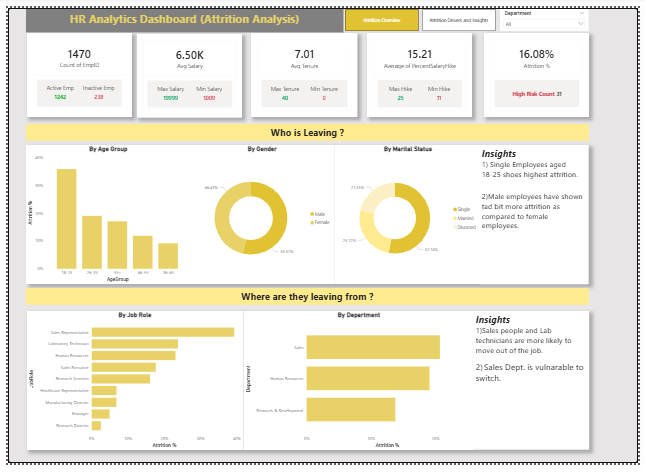

What the dashboard file says about the page in this screenshot:
{"tool":"powerbi","page":{"name":"Attrition Overview","canvas":[1800,1300],"ordinal":0},"visuals":[{"type":"shape","box":[53.3,866.7,1606.7,396.7],"z":0},{"type":"shape","box":[53.3,390,1606.7,396.7],"z":1000},{"type":"cardVisual","fields":{"Data":["Count(HR_Analytics.EmpID)"]},"box":[53.3,70,300,240],"z":2000},{"type":"cardVisual","fields":{"Data":["Avg(HR_Analytics.MonthlyIncome)"]},"box":[368.9,73.3,300,238.9],"z":3000},{"type":"cardVisual","fields":{"Data":["Avg(HR_Analytics.PercentSalaryHike)"]},"box":[1026,72,300,240],"z":4000},{"type":"cardVisual","fields":{"Data":["Avg(HR_Analytics.YearsAtCompany)"]},"box":[694,72,304,240],"z":5000},{"type":"cardVisual","fields":{"Data":["_Measure.Attrition %"]},"box":[1360,72,300,240],"z":6000},{"type":"textbox","box":[52,332,1608,48],"z":7000},{"type":"columnChart","title":"By Age Group","fields":{"Category":["HR_Analytics.AgeGroup"],"Y":["_Measure.Attrition %"]},"box":[50,390,470,396.7],"z":8000},{"type":"donutChart","title":"By Gender","fields":{"Category":["HR_Analytics.Gender"],"Y":["_Measure.Attrition %"]},"box":[520,390,413.3,396.7],"z":9000},{"type":"donutChart","title":"By Marital Status","fields":{"Y":["_Measure.Attrition %"],"Category":["HR_Analytics.MaritalStatus"]},"box":[933.3,390,416.7,396.7],"z":10000},{"type":"textbox","box":[52,800,1608,48],"z":11000},{"type":"barChart","title":"By Job Role","fields":{"Category":["HR_Analytics.JobRole"],"Y":["_Measure.Attrition %"]},"box":[53.3,866.7,616.7,396.7],"z":12000},{"type":"barChart","title":"By Department","fields":{"Y":["_Measure.Attrition %"],"Category":["HR_Analytics.Department"]},"box":[673.3,866.7,656.7,396.7],"z":13000},{"type":"textbox","box":[50,3.3,906.7,66.7],"z":14000},{"type":"textbox","box":[1350,390,307.5,397.5],"z":15000},{"type":"textbox","box":[1331.4,865.7,328.6,394.3],"z":16000},{"type":"pageNavigator","box":[963.3,3.3,430,63.3],"z":16001},{"type":"slicer","fields":{"Values":["HR_Analytics.Department"]},"box":[1406.7,3.3,253.3,63.3],"z":16002}]}

Visuals, with their boxes in screenshot pixels (x1, y1, x2, y2), scaled from the page's 1800x1300 canvas onto the 645x472 screenshot:
shape: {"left": 19, "top": 315, "right": 595, "bottom": 459}
shape: {"left": 19, "top": 142, "right": 595, "bottom": 286}
cardVisual - Count(HR_Analytics.EmpID): {"left": 19, "top": 25, "right": 127, "bottom": 113}
cardVisual - Avg(HR_Analytics.MonthlyIncome): {"left": 132, "top": 27, "right": 240, "bottom": 113}
cardVisual - Avg(HR_Analytics.PercentSalaryHike): {"left": 368, "top": 26, "right": 475, "bottom": 113}
cardVisual - Avg(HR_Analytics.YearsAtCompany): {"left": 249, "top": 26, "right": 358, "bottom": 113}
cardVisual - _Measure.Attrition %: {"left": 487, "top": 26, "right": 595, "bottom": 113}
textbox: {"left": 19, "top": 121, "right": 595, "bottom": 138}
"By Age Group" columnChart: {"left": 18, "top": 142, "right": 186, "bottom": 286}
"By Gender" donutChart: {"left": 186, "top": 142, "right": 334, "bottom": 286}
"By Marital Status" donutChart: {"left": 334, "top": 142, "right": 484, "bottom": 286}
textbox: {"left": 19, "top": 290, "right": 595, "bottom": 308}
"By Job Role" barChart: {"left": 19, "top": 315, "right": 240, "bottom": 459}
"By Department" barChart: {"left": 241, "top": 315, "right": 477, "bottom": 459}
textbox: {"left": 18, "top": 1, "right": 343, "bottom": 25}
textbox: {"left": 484, "top": 142, "right": 594, "bottom": 286}
textbox: {"left": 477, "top": 314, "right": 595, "bottom": 457}
pageNavigator: {"left": 345, "top": 1, "right": 499, "bottom": 24}
slicer - HR_Analytics.Department: {"left": 504, "top": 1, "right": 595, "bottom": 24}
